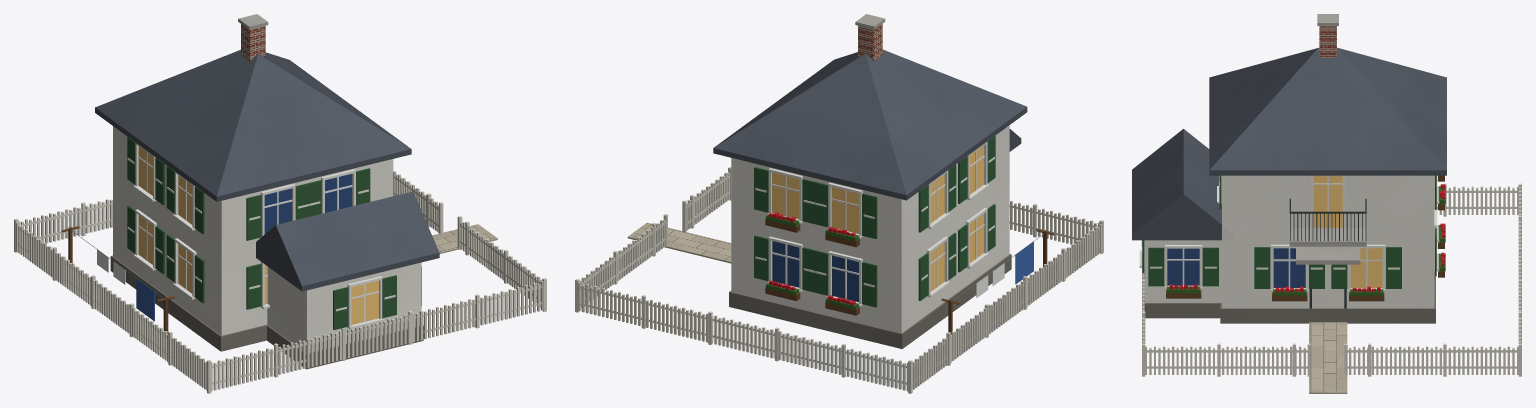
File: dum_1a_domy_1.glb
The picture shows the model from 3 angles, left to right: view 1: azimuth 30°, elevation 25°; view 2: azimuth 150°, elevation 25°; view 3: azimuth 270°, elevation 25°; orthographic projection. The views are drawn at different scales.
Visible parts, largest first — view 1: dum, noc; view 2: dum, noc; view 3: dum, noc.
Boxes of the visible parts, bbox=[...] form: dum: bbox=[14, 14, 546, 393]; noc: bbox=[138, 146, 378, 324]; dum: bbox=[575, 14, 1103, 393]; noc: bbox=[772, 145, 983, 291]; dum: bbox=[1132, 14, 1521, 393]; noc: bbox=[1313, 175, 1382, 287].
Size of the model in its own units: 13.07 by 8.98 by 12.04.
Materials: 1 (1 with a texture image).
